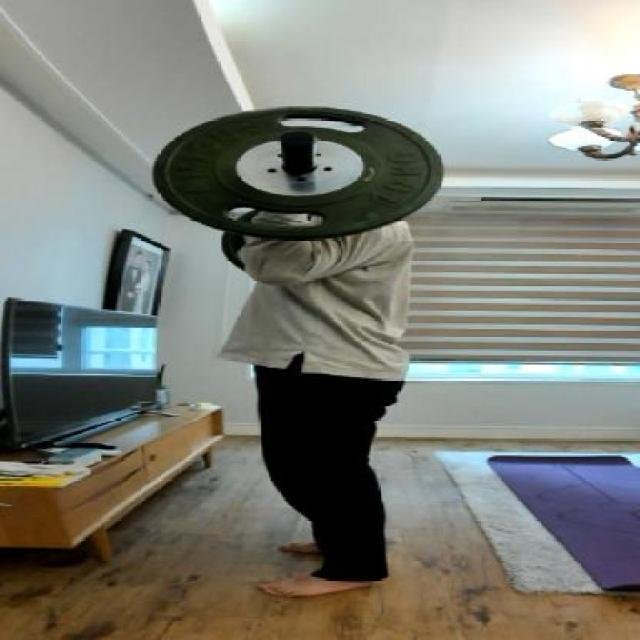barbell: (142, 98, 458, 247)
